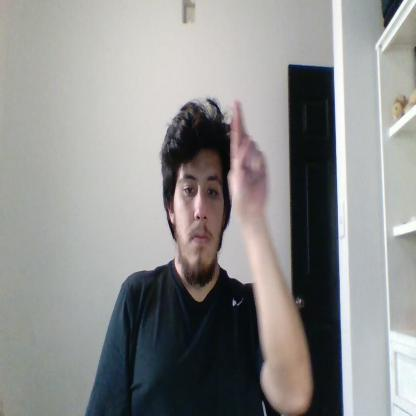R: (228, 99, 268, 222)
